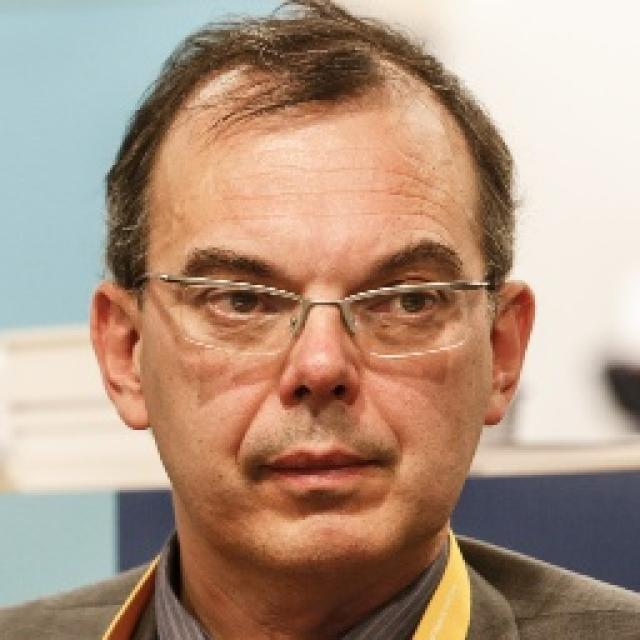earlobe: (113, 381, 151, 432), (479, 379, 512, 426)
eye: (370, 283, 442, 316), (205, 290, 277, 320)
nose: (276, 374, 366, 433)
wholeear: (89, 281, 152, 431), (481, 280, 536, 425)
